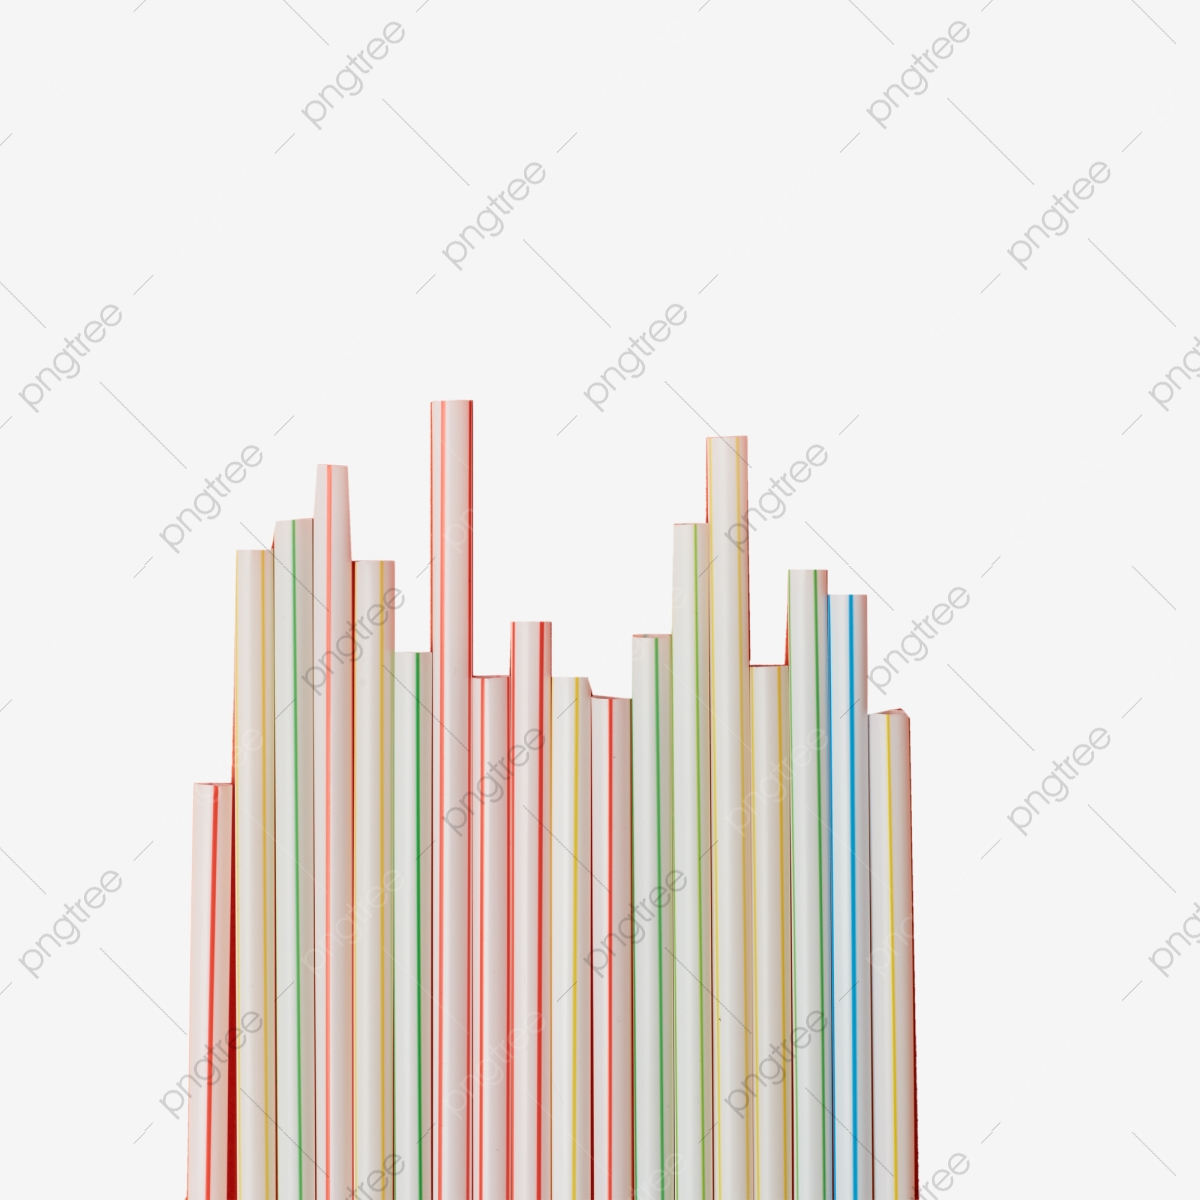Drinking Straw: (430, 396, 482, 1200), (701, 431, 756, 1200)
